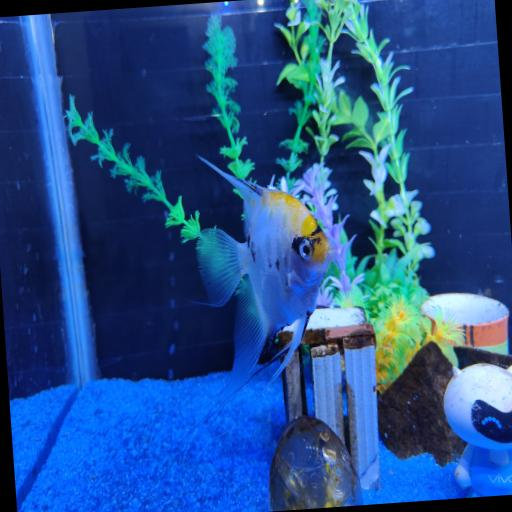Fish: (197, 157, 333, 416)
